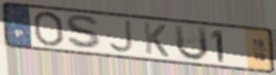1: (210, 29, 226, 63)
J: (107, 18, 135, 54)
K: (141, 21, 171, 59)
O: (32, 11, 66, 48)
S: (64, 13, 105, 51)
U: (172, 23, 211, 62)
